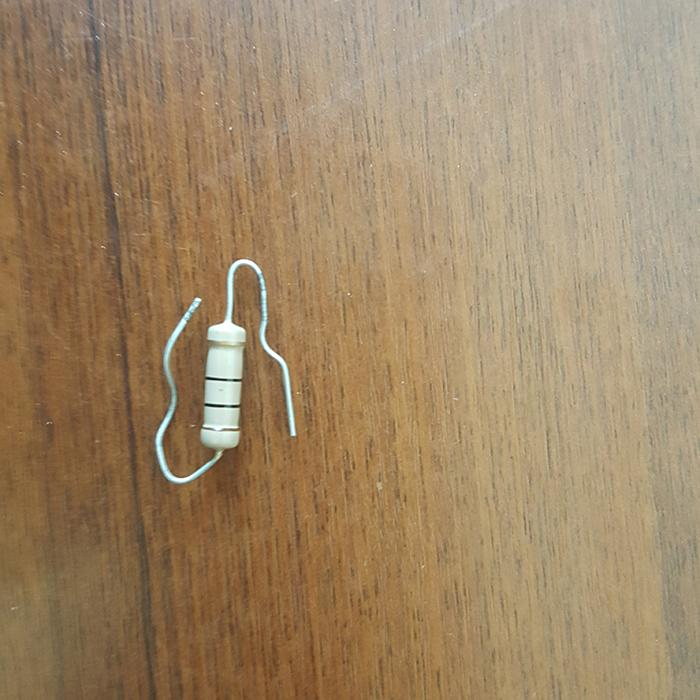resistor: (200, 322, 245, 450)
